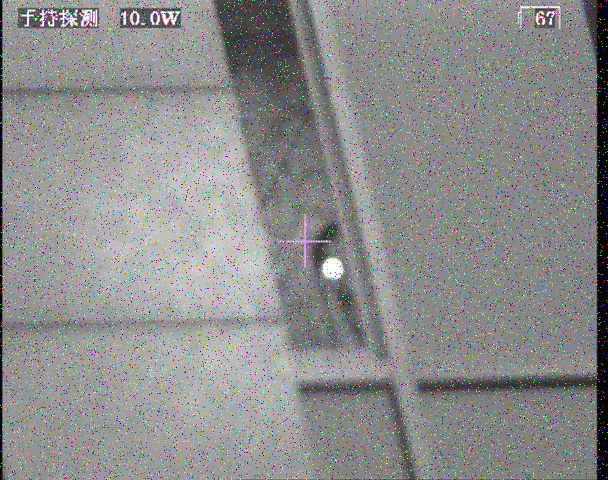my: (320, 256, 345, 279)
